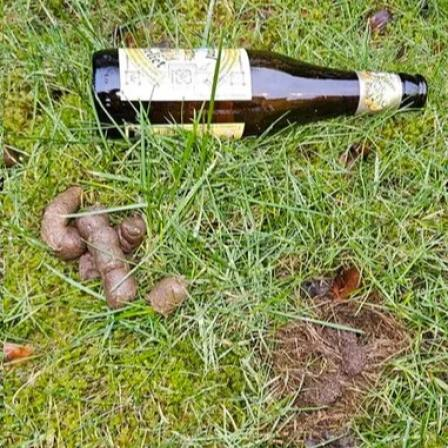dog-poop: (38, 184, 192, 321)
